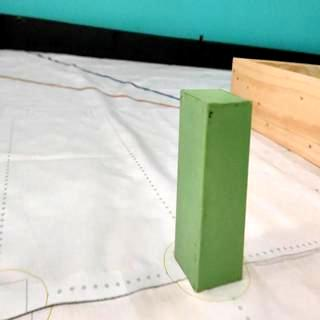greenbox: (176, 84, 253, 290)
